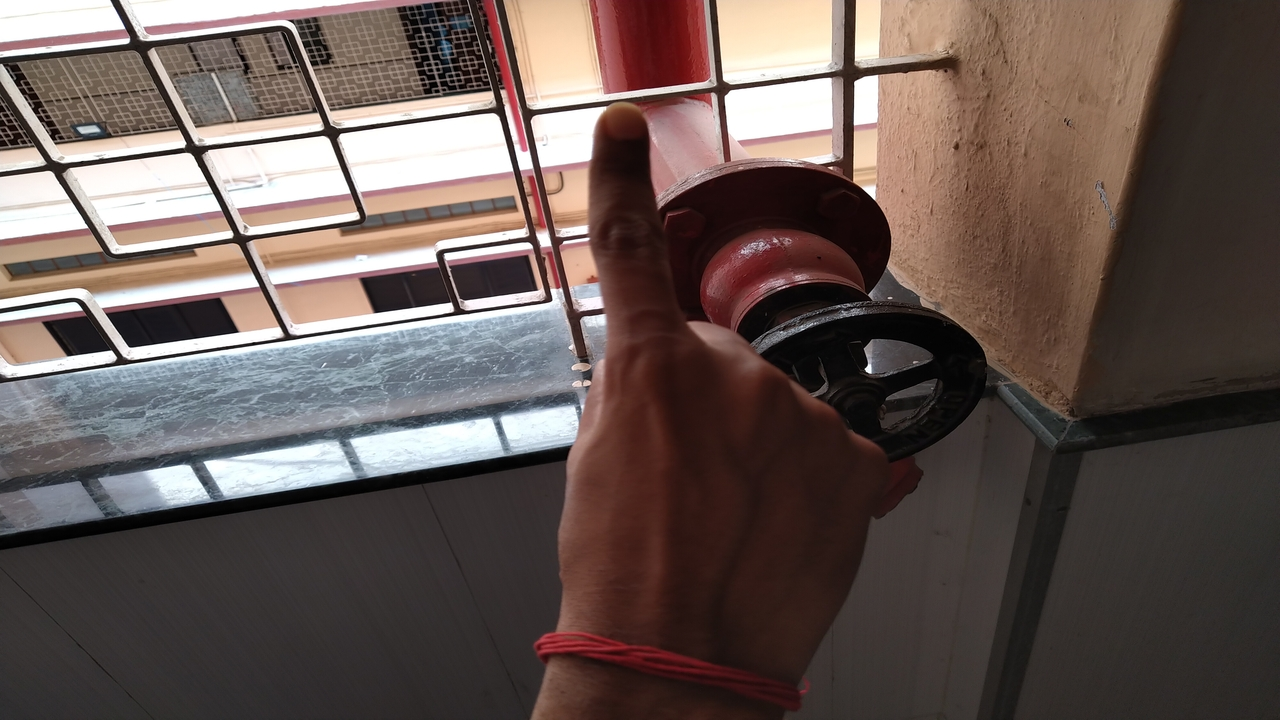fingertip: (590, 98, 654, 156)
